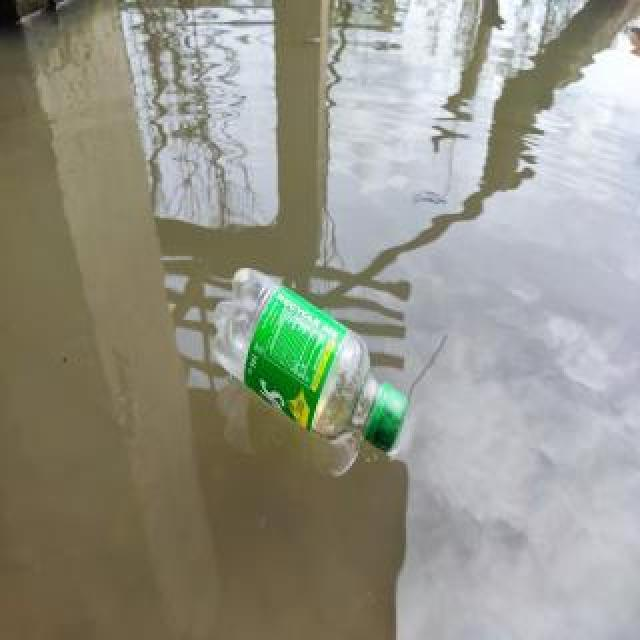bottle: (205, 262, 411, 460)
